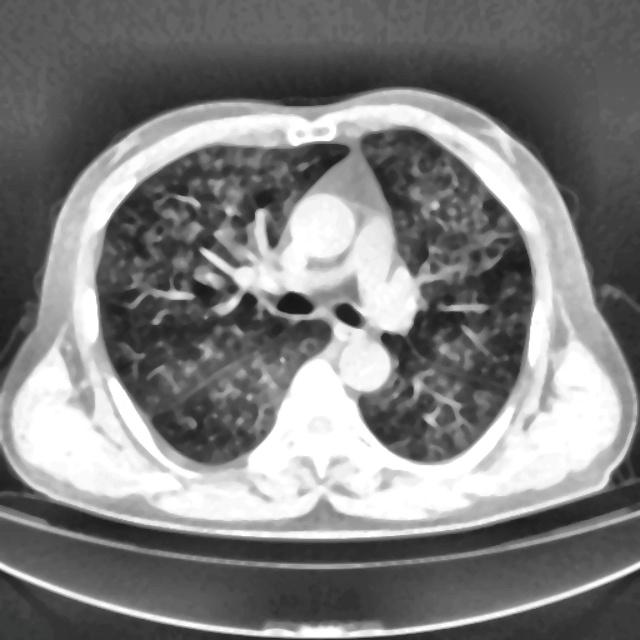covid: (1, 85, 638, 538)
